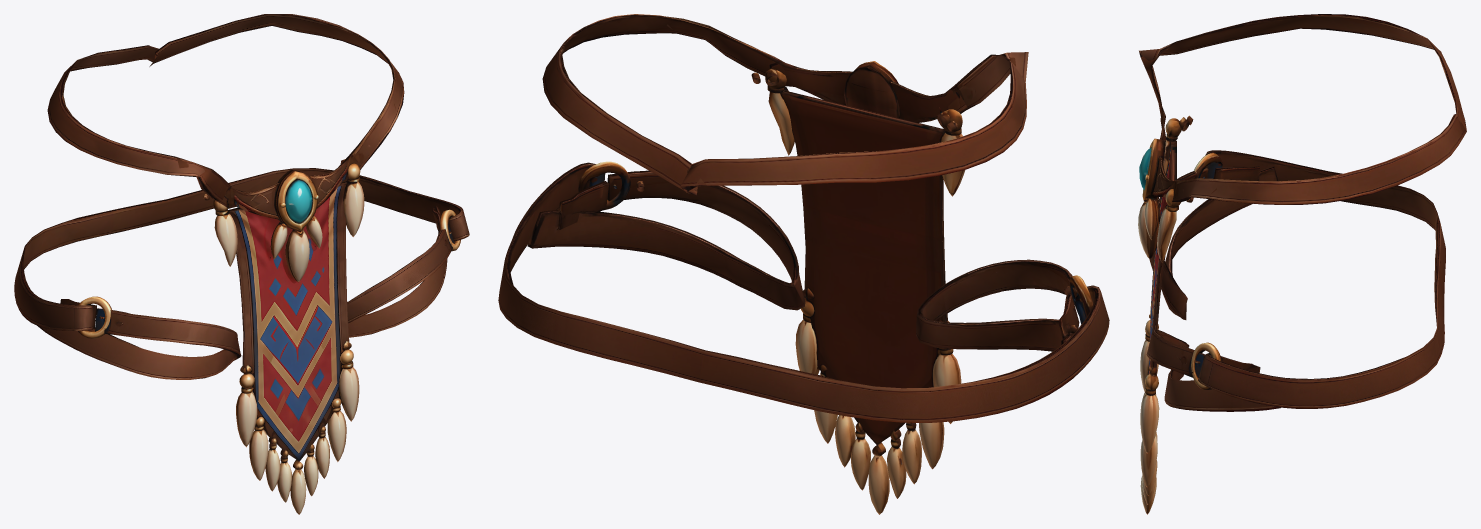
The model's file is baine-legs-lite.glb.
3 renders of one model, left to right at view 1: azimuth 30°, elevation 25°; view 2: azimuth 150°, elevation 25°; view 3: azimuth 270°, elevation 25°, orthographic. The views are drawn at different scales.
Visible parts, largest first — view 1: tripo_32a9124f_7b82_46e5_8876_c3cb0918c70b; view 2: tripo_32a9124f_7b82_46e5_8876_c3cb0918c70b; view 3: tripo_32a9124f_7b82_46e5_8876_c3cb0918c70b.
Part boxes in pixels (box(x1,y1,x2,y2)): tripo_32a9124f_7b82_46e5_8876_c3cb0918c70b: box(14, 14, 469, 514); tripo_32a9124f_7b82_46e5_8876_c3cb0918c70b: box(498, 14, 1109, 514); tripo_32a9124f_7b82_46e5_8876_c3cb0918c70b: box(1138, 14, 1466, 514).
Size of the model in its own units: 0.9591 by 0.8568 by 0.5999.
1 material, 1 textured.
